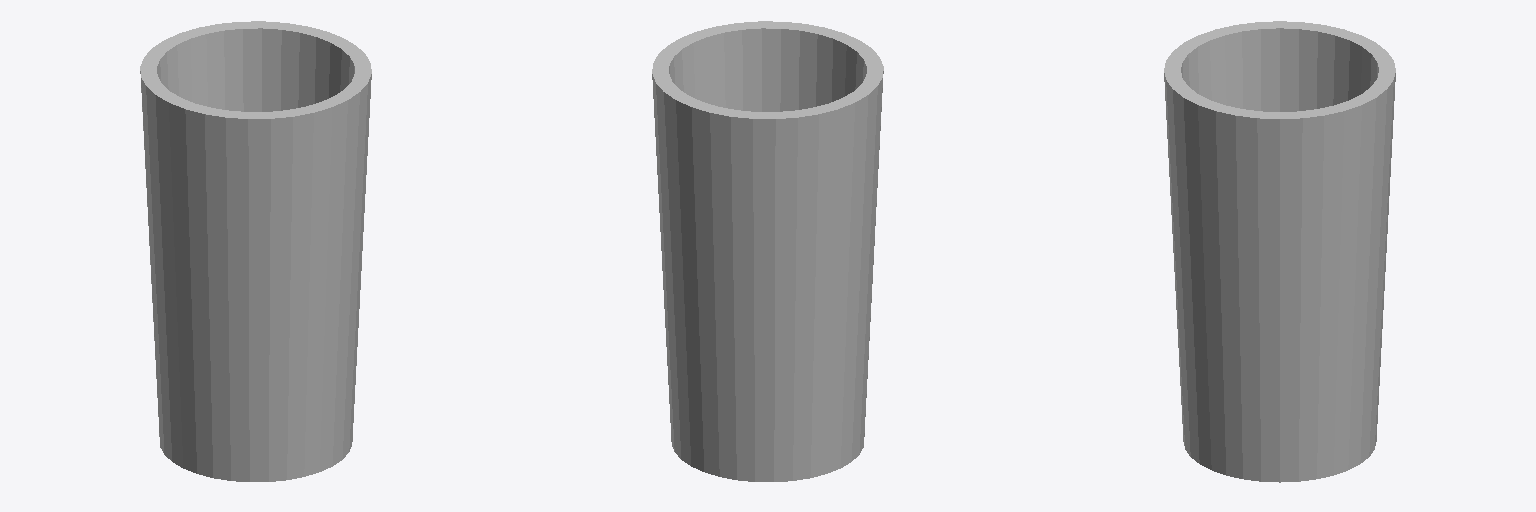
Rendered from juice.obj.
3 renders of one model, left to right at view 1: azimuth 30°, elevation 25°; view 2: azimuth 150°, elevation 25°; view 3: azimuth 270°, elevation 25°, orthographic.
Parts seen in each view (by area): view 1: glass-group_glass; view 2: glass-group_glass; view 3: glass-group_glass.
Boxes of the visible parts, x1,y1,x2,y2 form: glass-group_glass: [140, 21, 371, 481]; glass-group_glass: [652, 21, 883, 481]; glass-group_glass: [1164, 21, 1395, 482].
Size of the model in its own units: 1.56 by 2.75 by 1.56.